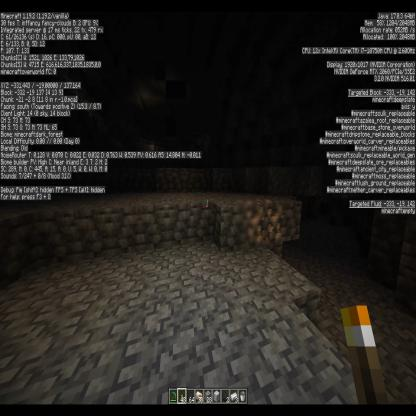iron ore: (237, 196, 264, 246), (258, 198, 283, 246)
